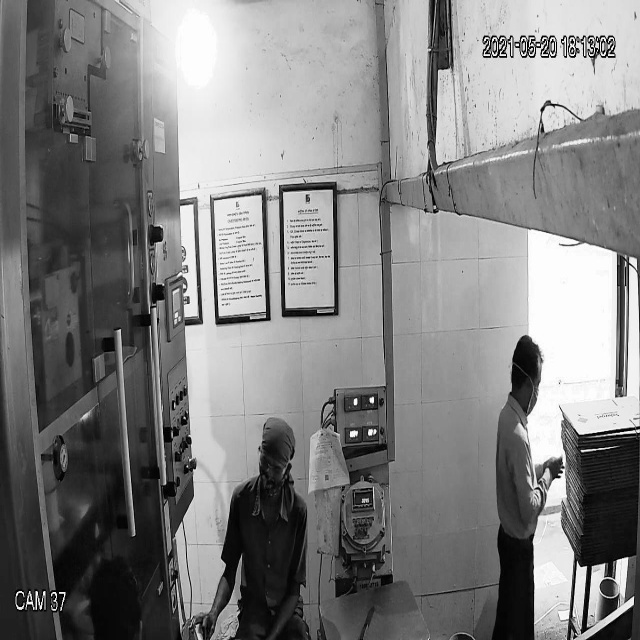Gafas: (256, 447, 290, 482)
